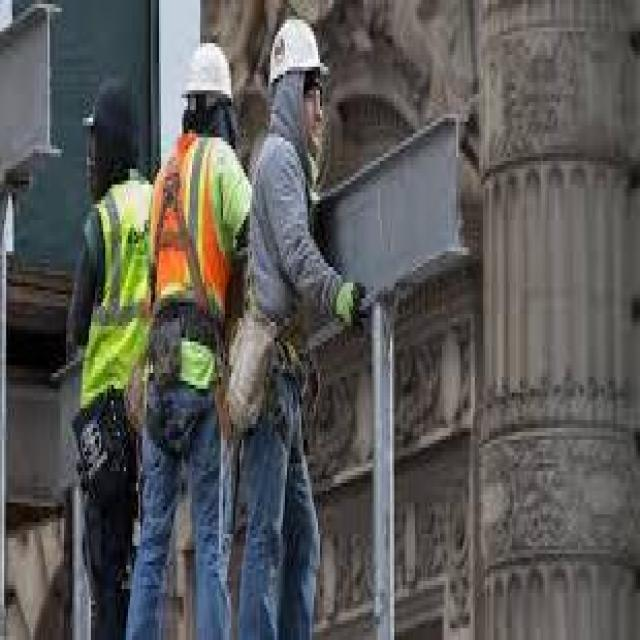Reflective-Jacket: (145, 126, 258, 412), (66, 165, 165, 440)
Safety-Helmet: (262, 8, 326, 98), (176, 31, 240, 118)
